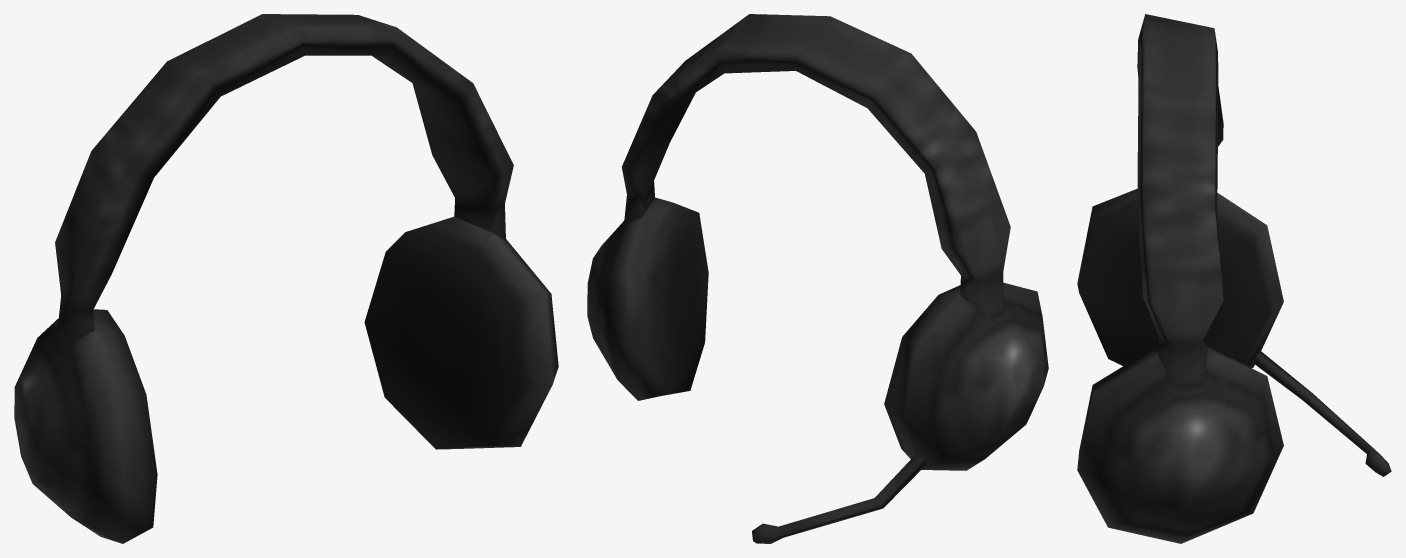
The model's file is headphone3.glb.
The picture shows the model from 3 angles, left to right: view 1: azimuth 30°, elevation 25°; view 2: azimuth 150°, elevation 25°; view 3: azimuth 270°, elevation 25°; orthographic projection. The views are drawn at different scales.
Visible parts, largest first — view 1: headphone3; view 2: headphone3; view 3: headphone3.
Boxes of the visible parts, box(x1,y1,x2,y2) form: headphone3: box(14, 14, 558, 543); headphone3: box(587, 14, 1048, 543); headphone3: box(1077, 14, 1391, 543).
Bounding box in the file's own units: 0.3176 × 0.3063 × 0.1894.
1 material, 1 textured.
